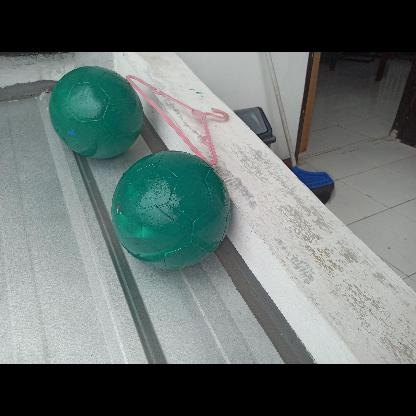green_ball: (108, 146, 230, 268), (48, 65, 142, 159)
